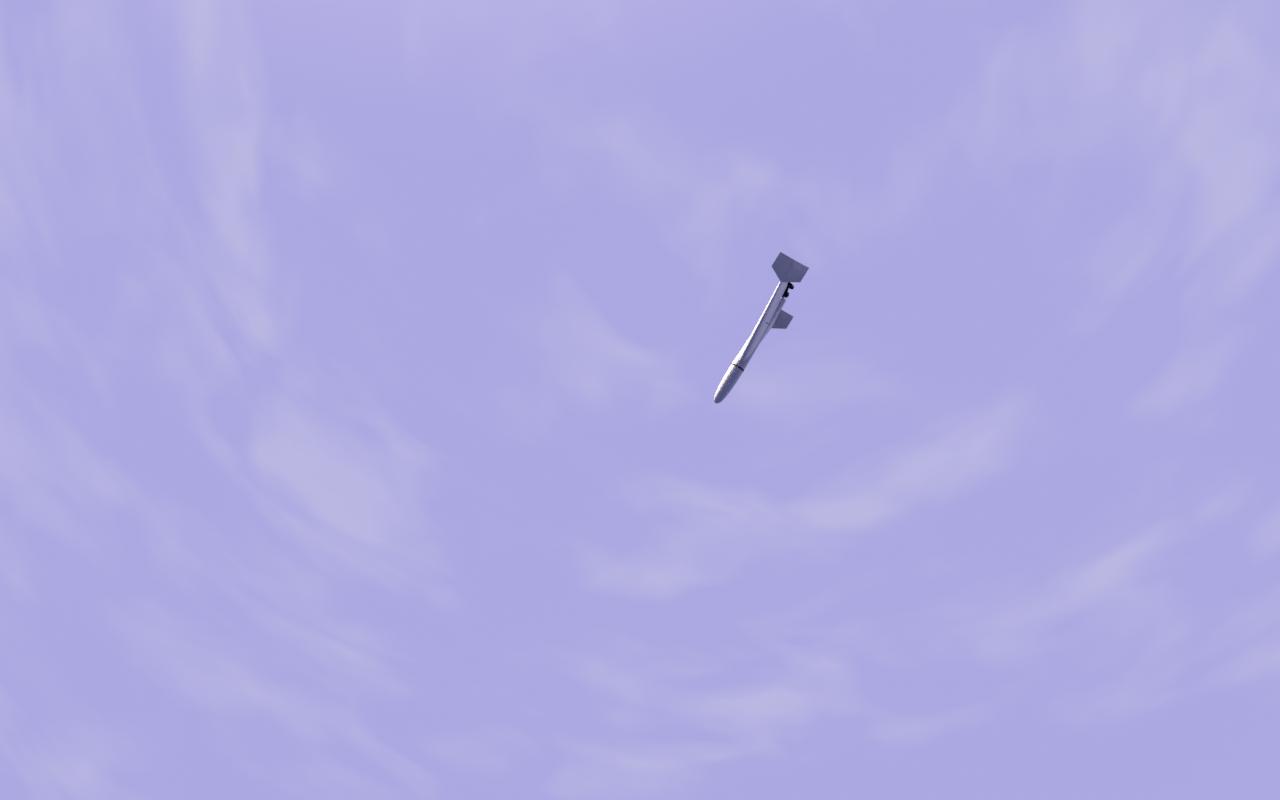shahed: (714, 252, 811, 405)
